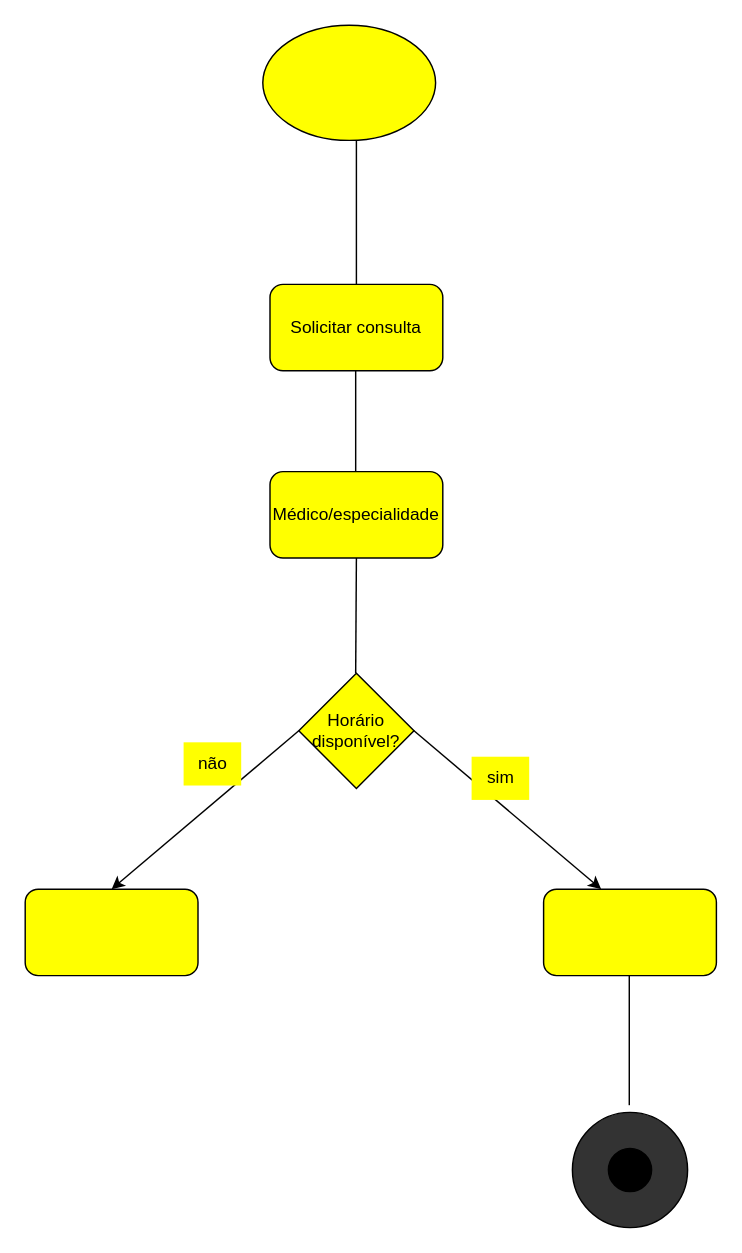
Some shapes in this 742 by 1253 pixel diagram are drawn without their labels. Each missing label, with the centre of its shape:
Entrar na fila de espera: the point at 111,932
Início: the point at 348,82
Marcar consulta: the point at 629,932
